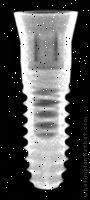NucleOSS: (3, 8, 79, 192)
